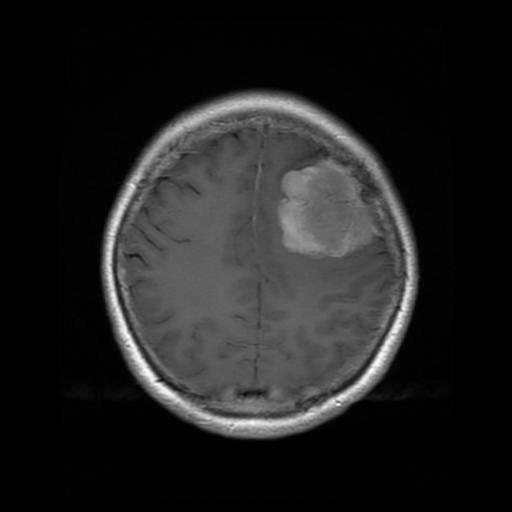Tumour-Meningioma: (271, 153, 394, 290)
